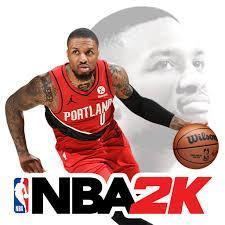ball: (174, 125, 219, 168)
human: (5, 26, 186, 177)
